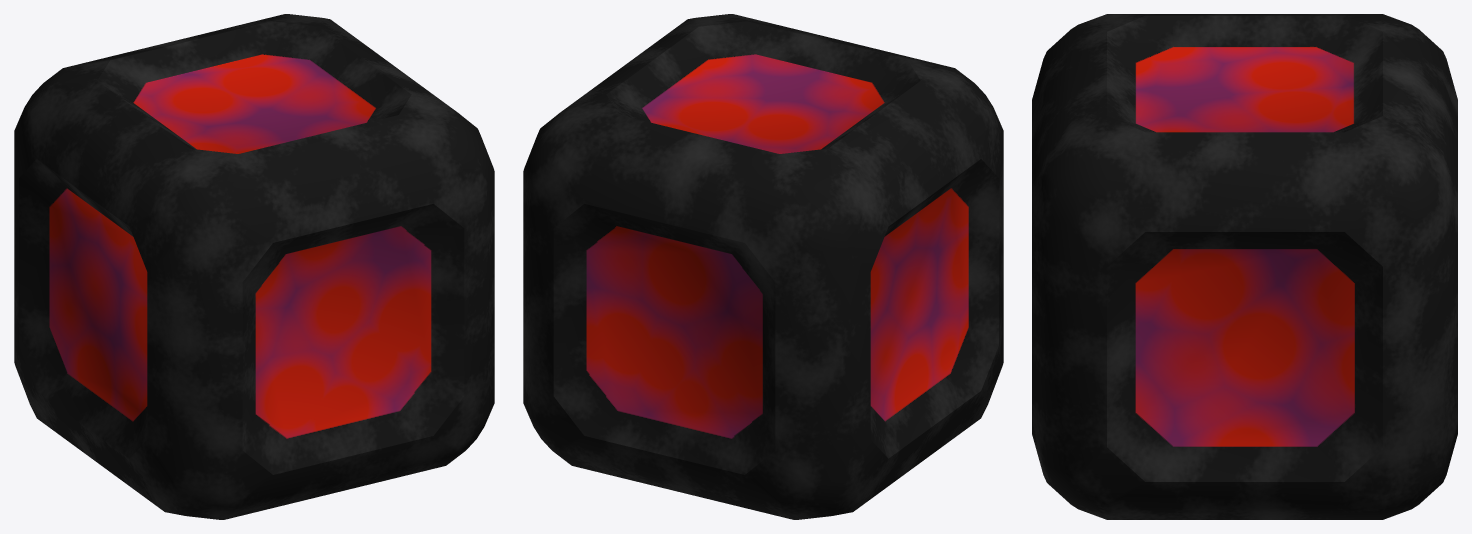
The model's file is RS_3D_P_metal.fbx.
3 renders of one model, left to right at view 1: azimuth 30°, elevation 25°; view 2: azimuth 150°, elevation 25°; view 3: azimuth 270°, elevation 25°, orthographic. The views are drawn at different scales.
Visible parts, largest first — view 1: RS_3d_metal; view 2: RS_3d_metal; view 3: RS_3d_metal.
Part boxes in pixels (x1,y1,x2,y2): RS_3d_metal: (14, 14, 494, 519); RS_3d_metal: (523, 14, 1003, 519); RS_3d_metal: (1032, 14, 1457, 519).
Bounding box in the file's own units: 33 × 33 × 33.
